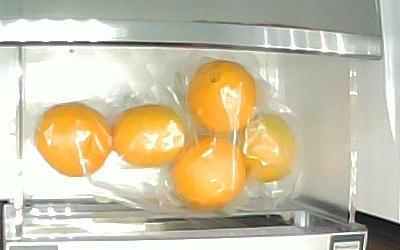orange_vinyl: (35, 102, 113, 178), (170, 134, 246, 210), (187, 60, 260, 135), (111, 104, 186, 167), (237, 112, 296, 184)
